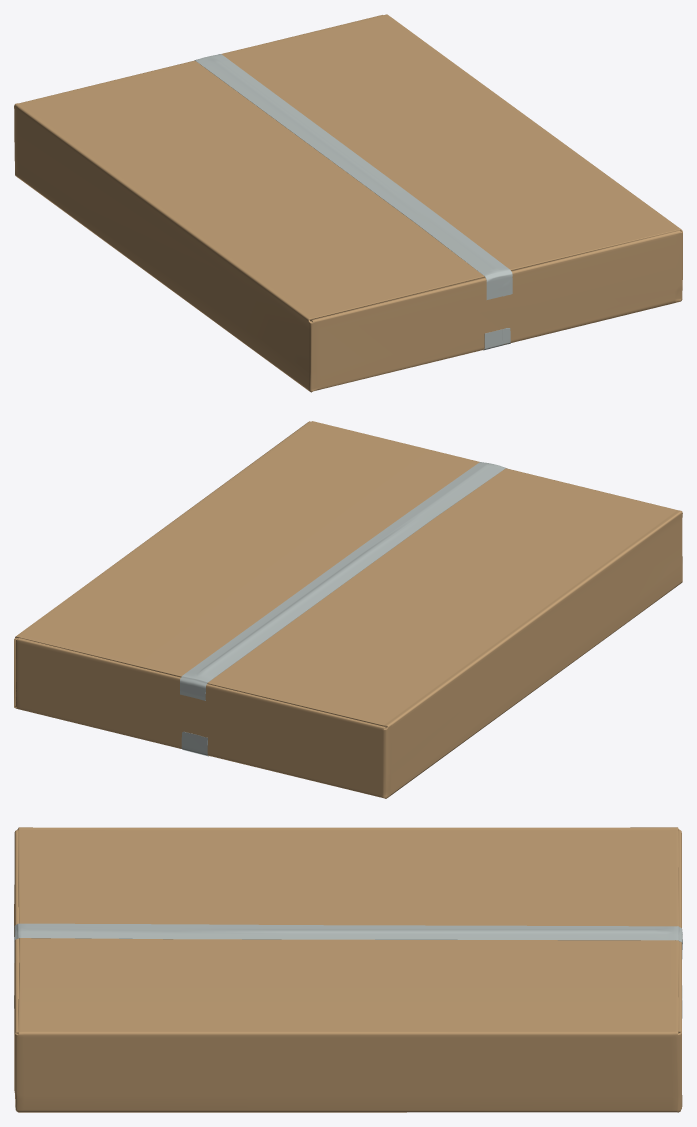
The model's file is box_flat_a14.glb.
3 views of the same model, one above another, from view 1: azimuth 30°, elevation 25°; view 2: azimuth 150°, elevation 25°; view 3: azimuth 270°, elevation 25° (orthographic). The views are drawn at different scales.
Size of the model in its own units: 0.4366 by 0.0845 by 0.602.
